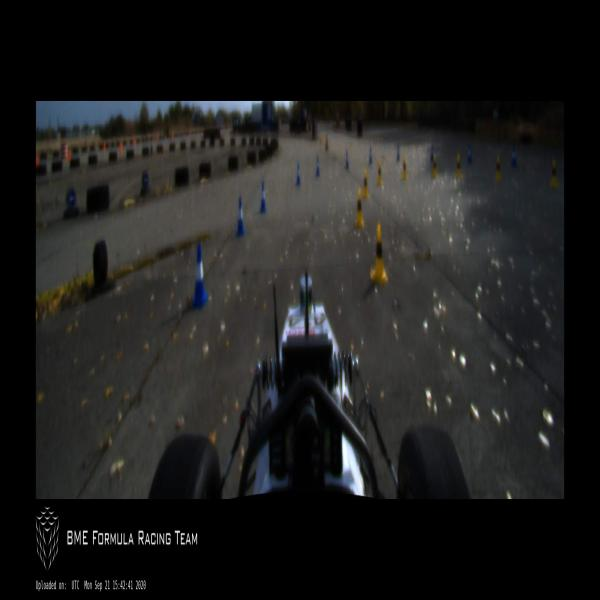blue_cone: (190, 243, 208, 306), (235, 198, 245, 236), (258, 183, 266, 212), (295, 162, 301, 183), (315, 156, 320, 176), (511, 146, 516, 166), (467, 145, 472, 164), (345, 150, 349, 170), (369, 148, 372, 166), (397, 144, 400, 162), (430, 145, 433, 161)
yellow_cone: (370, 222, 388, 284), (355, 186, 364, 226), (550, 157, 558, 189), (494, 153, 502, 182), (401, 155, 408, 181), (362, 169, 369, 195), (431, 154, 438, 178), (376, 160, 382, 185), (456, 154, 461, 178)
